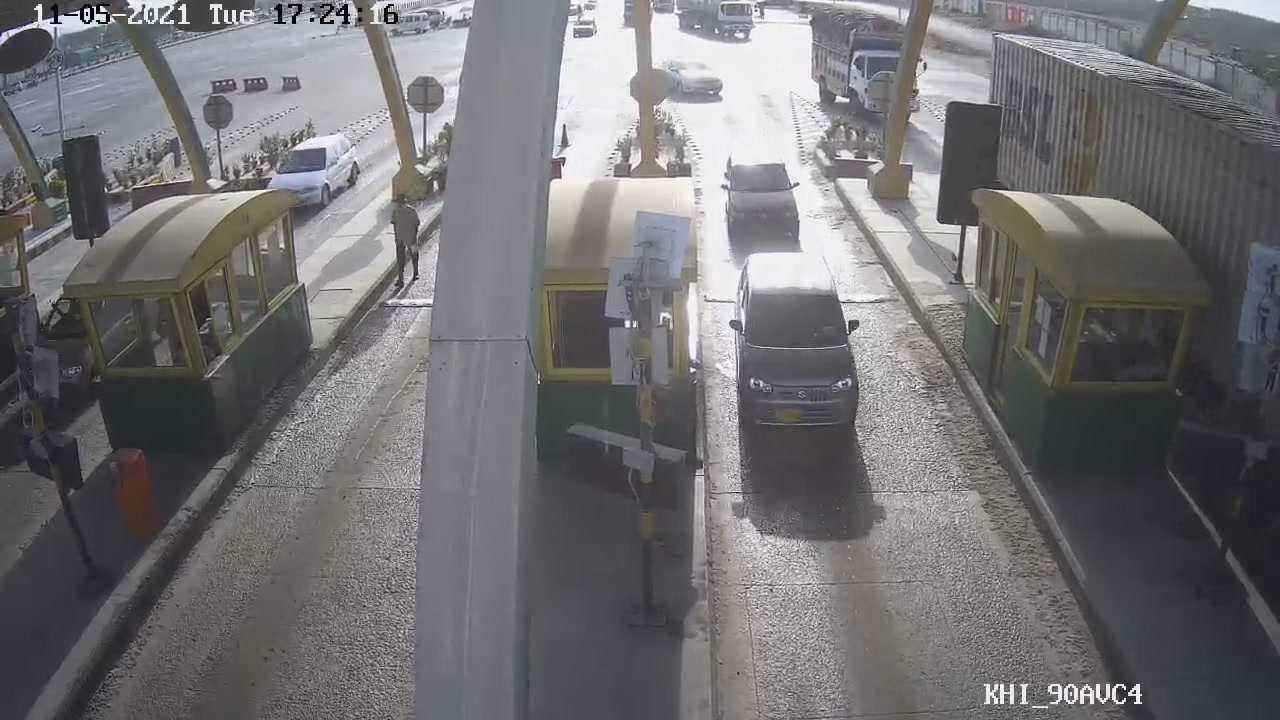F1: (725, 251, 868, 439), (713, 147, 809, 242)
